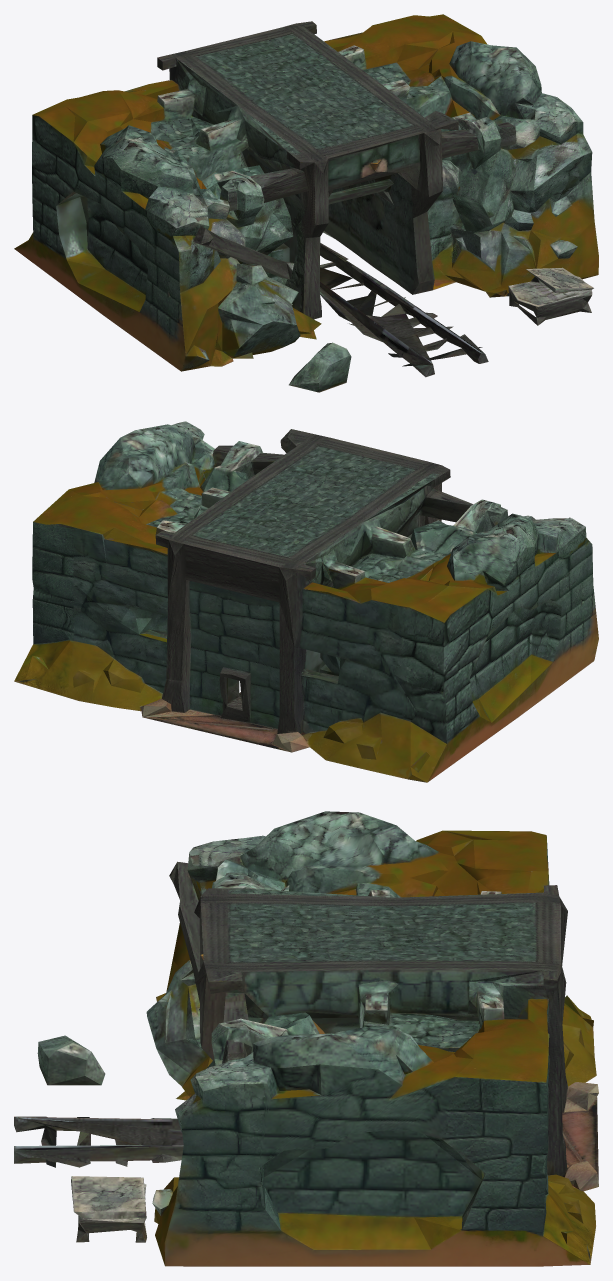
The model's file is mine.glb.
The picture shows the model from 3 angles, top to bottom: view 1: azimuth 30°, elevation 25°; view 2: azimuth 150°, elevation 25°; view 3: azimuth 270°, elevation 25°; orthographic projection. The views are drawn at different scales.
Bounding box in the file's own units: 1.9 × 0.7841 × 1.88.
1 material, 1 textured.
